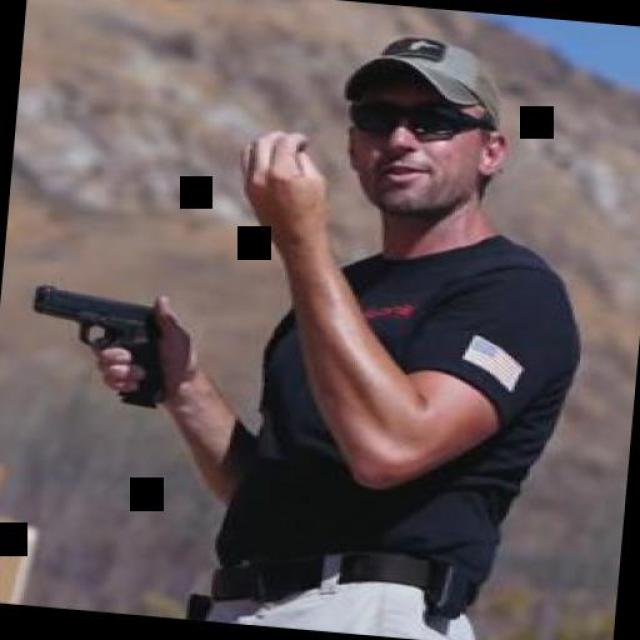gun: (15, 280, 176, 410)
